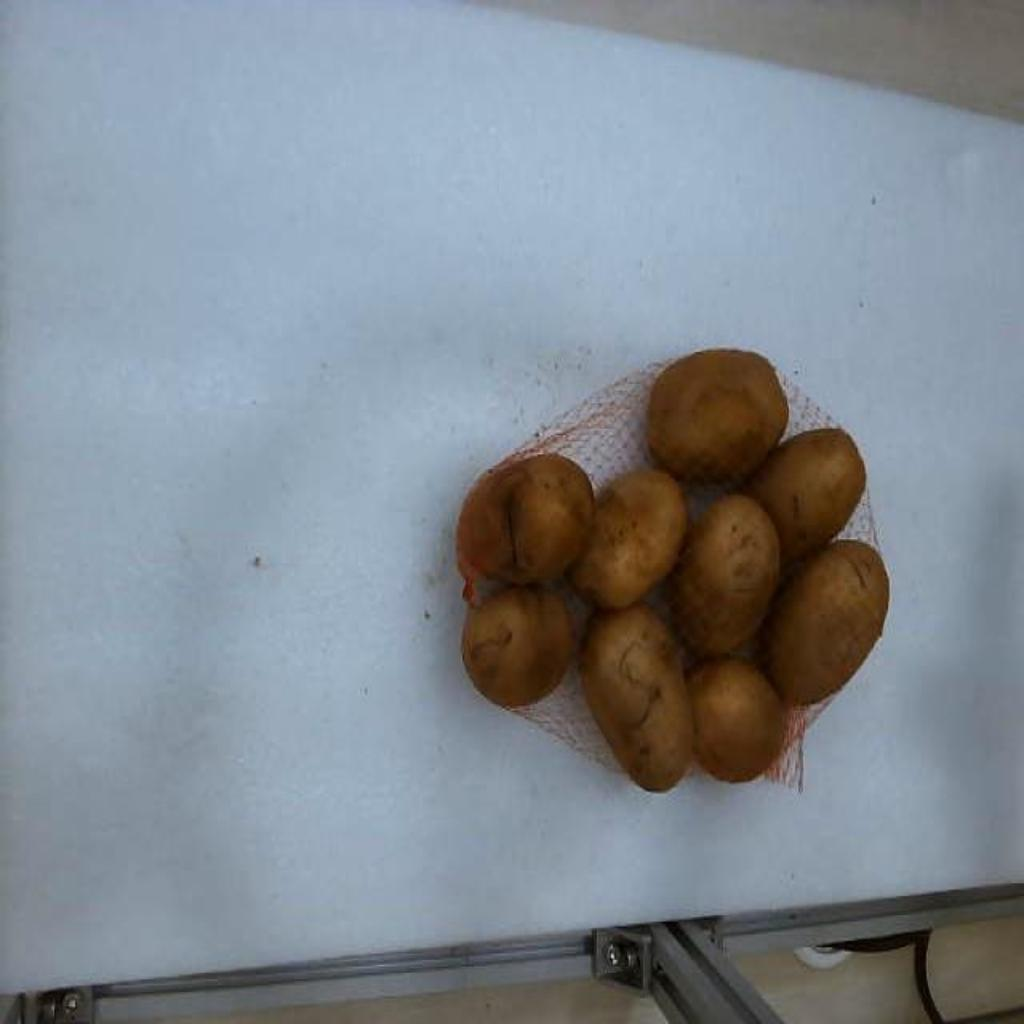potato: (580, 605, 694, 792), (764, 541, 890, 704), (648, 349, 788, 481), (456, 453, 594, 583), (668, 496, 780, 656), (744, 429, 864, 561), (570, 472, 686, 608), (462, 587, 574, 705), (688, 659, 784, 781)
